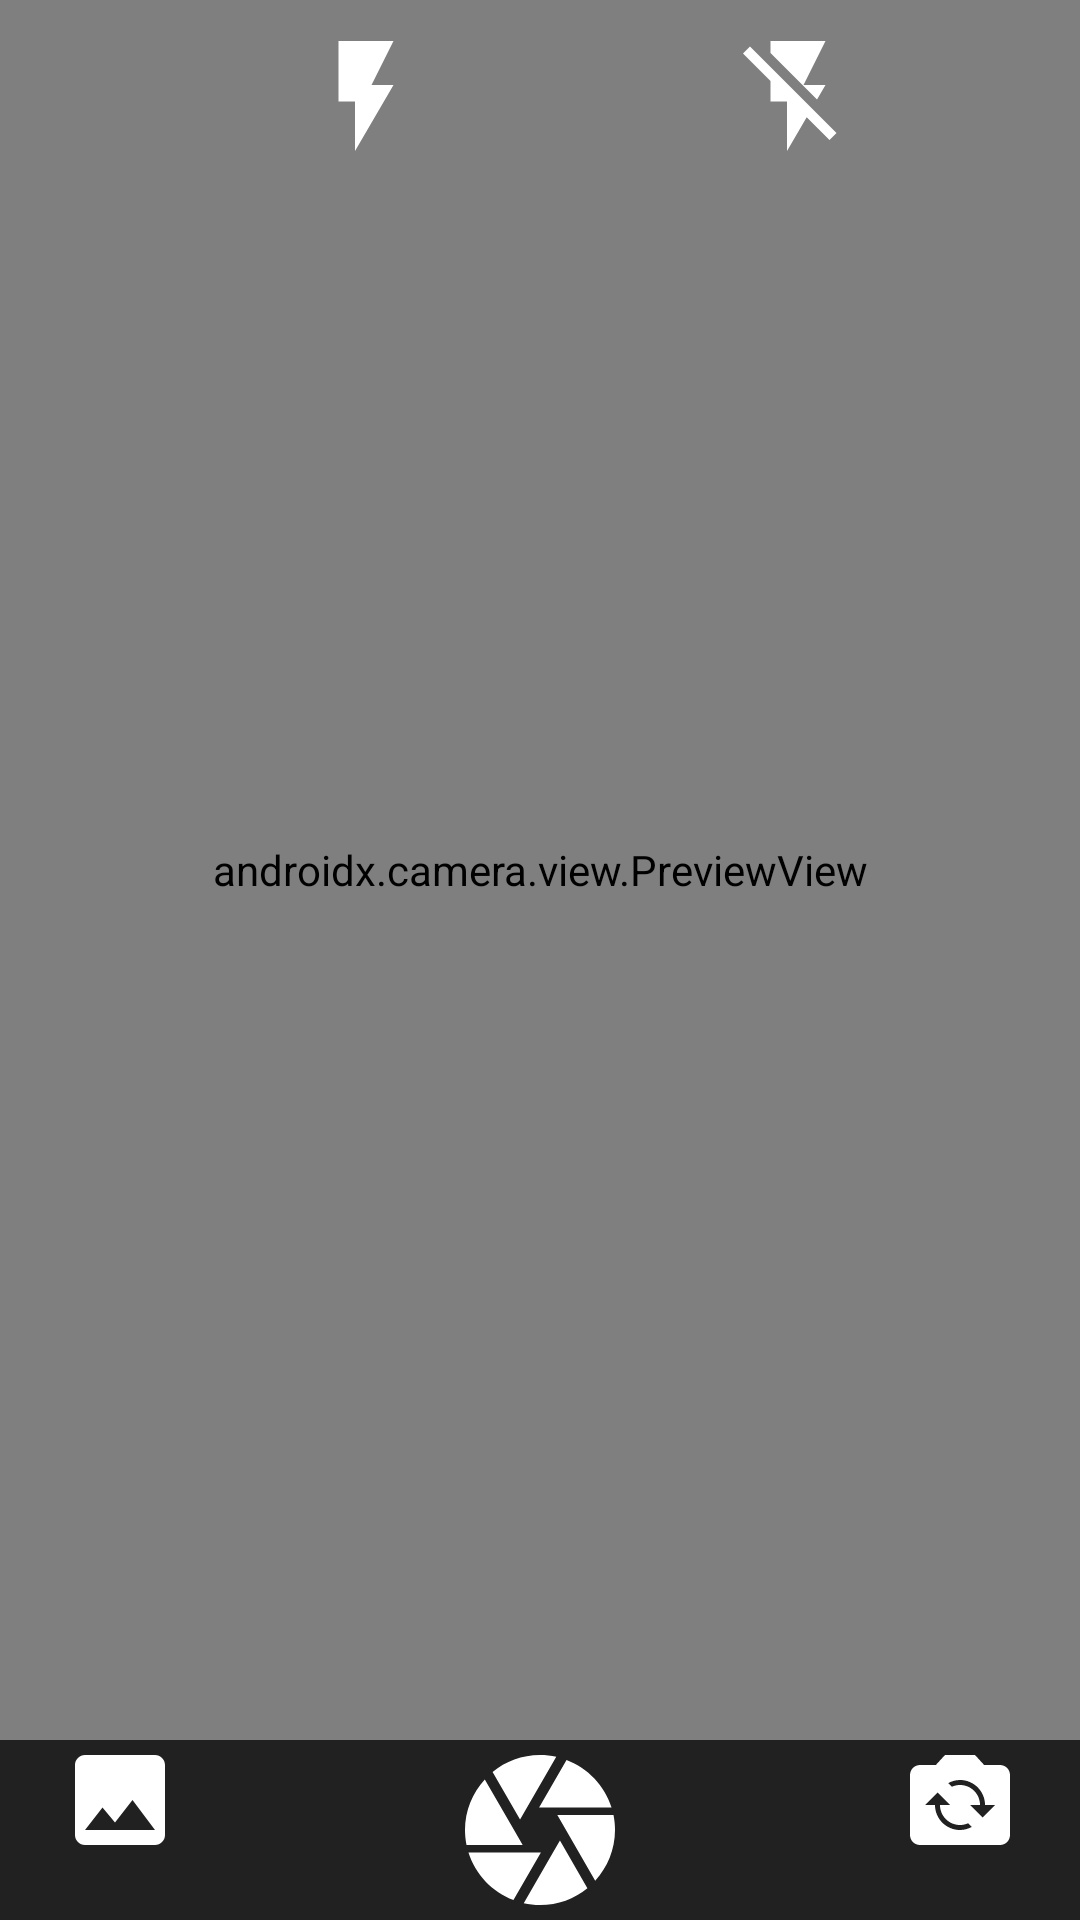

Point at icon controls on the screen. Image size 1080px×1920px, points as [x,y].
camhhhera: [540,1830]
flash off: [789,96]
flash on: [366,96]
flip camera: [960,1800]
photo: [120,1800]
